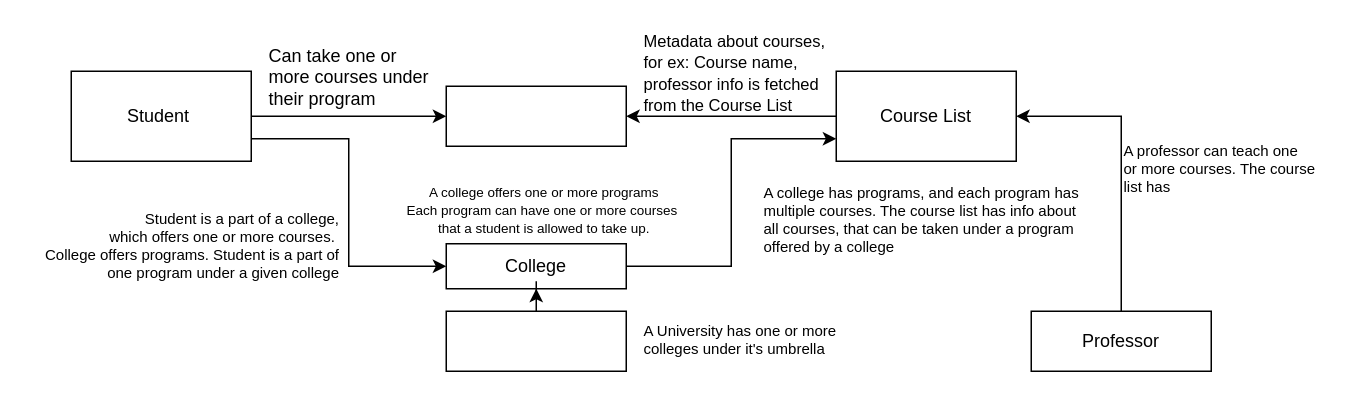
Some shapes in this 1356 by 398 pixel diagram are drawn without their labels. The centre of each missing label's shape, as x and y in pixels:
"Courses Taken" belongs at pixel 535 115.
"University" belongs at pixel 535 340.
